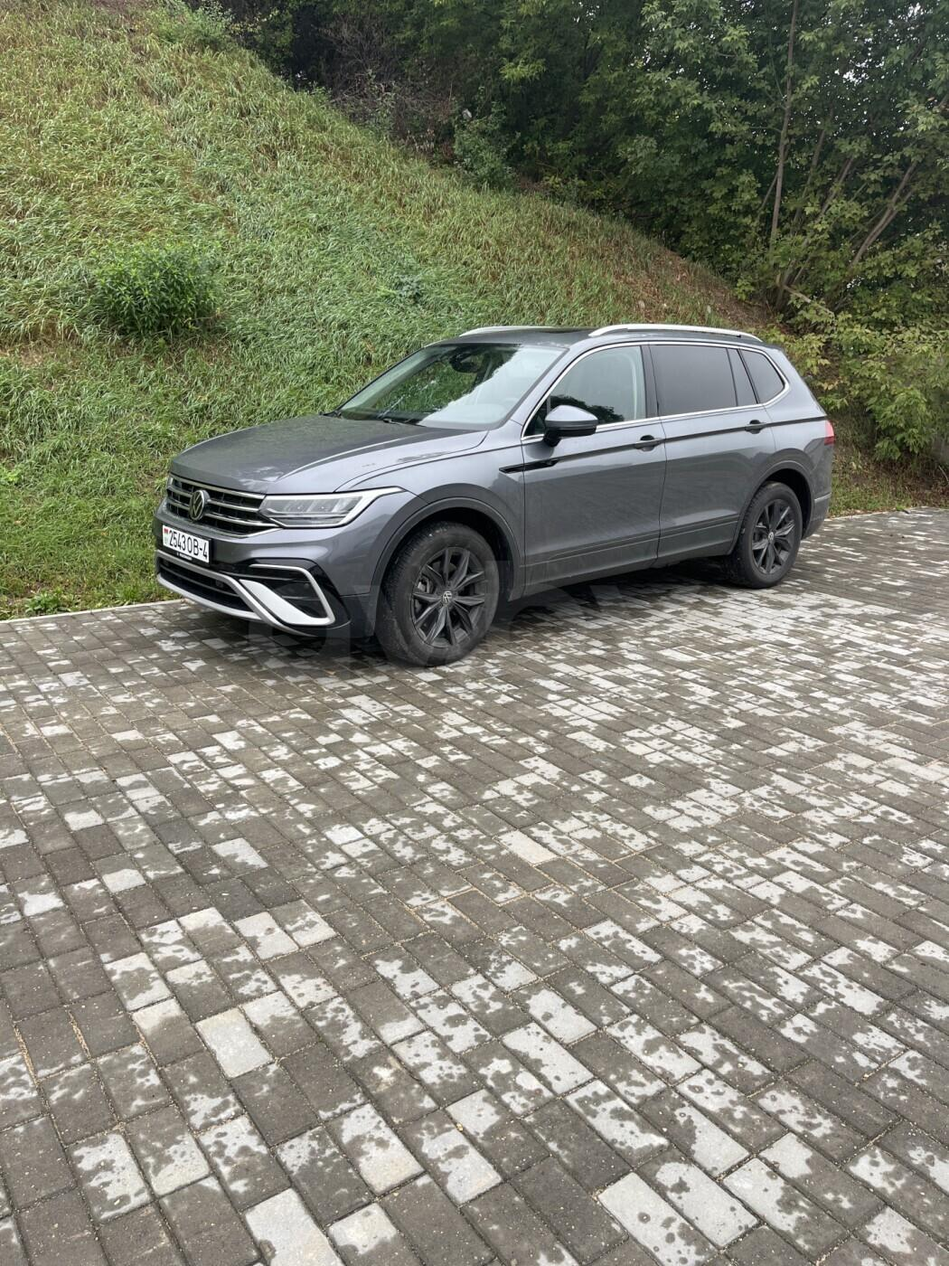Tiguan_2020-2024: (154, 327, 837, 666)
